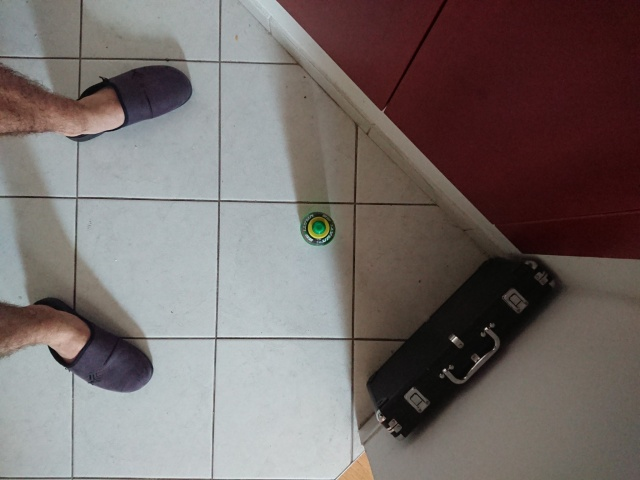Vindi Iso Sport Lemon-Grapefruit 500mL: (298, 210, 338, 248)
